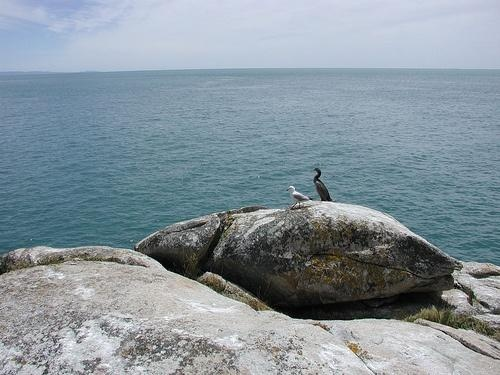bird: (312, 169, 337, 203), (287, 186, 317, 210)
